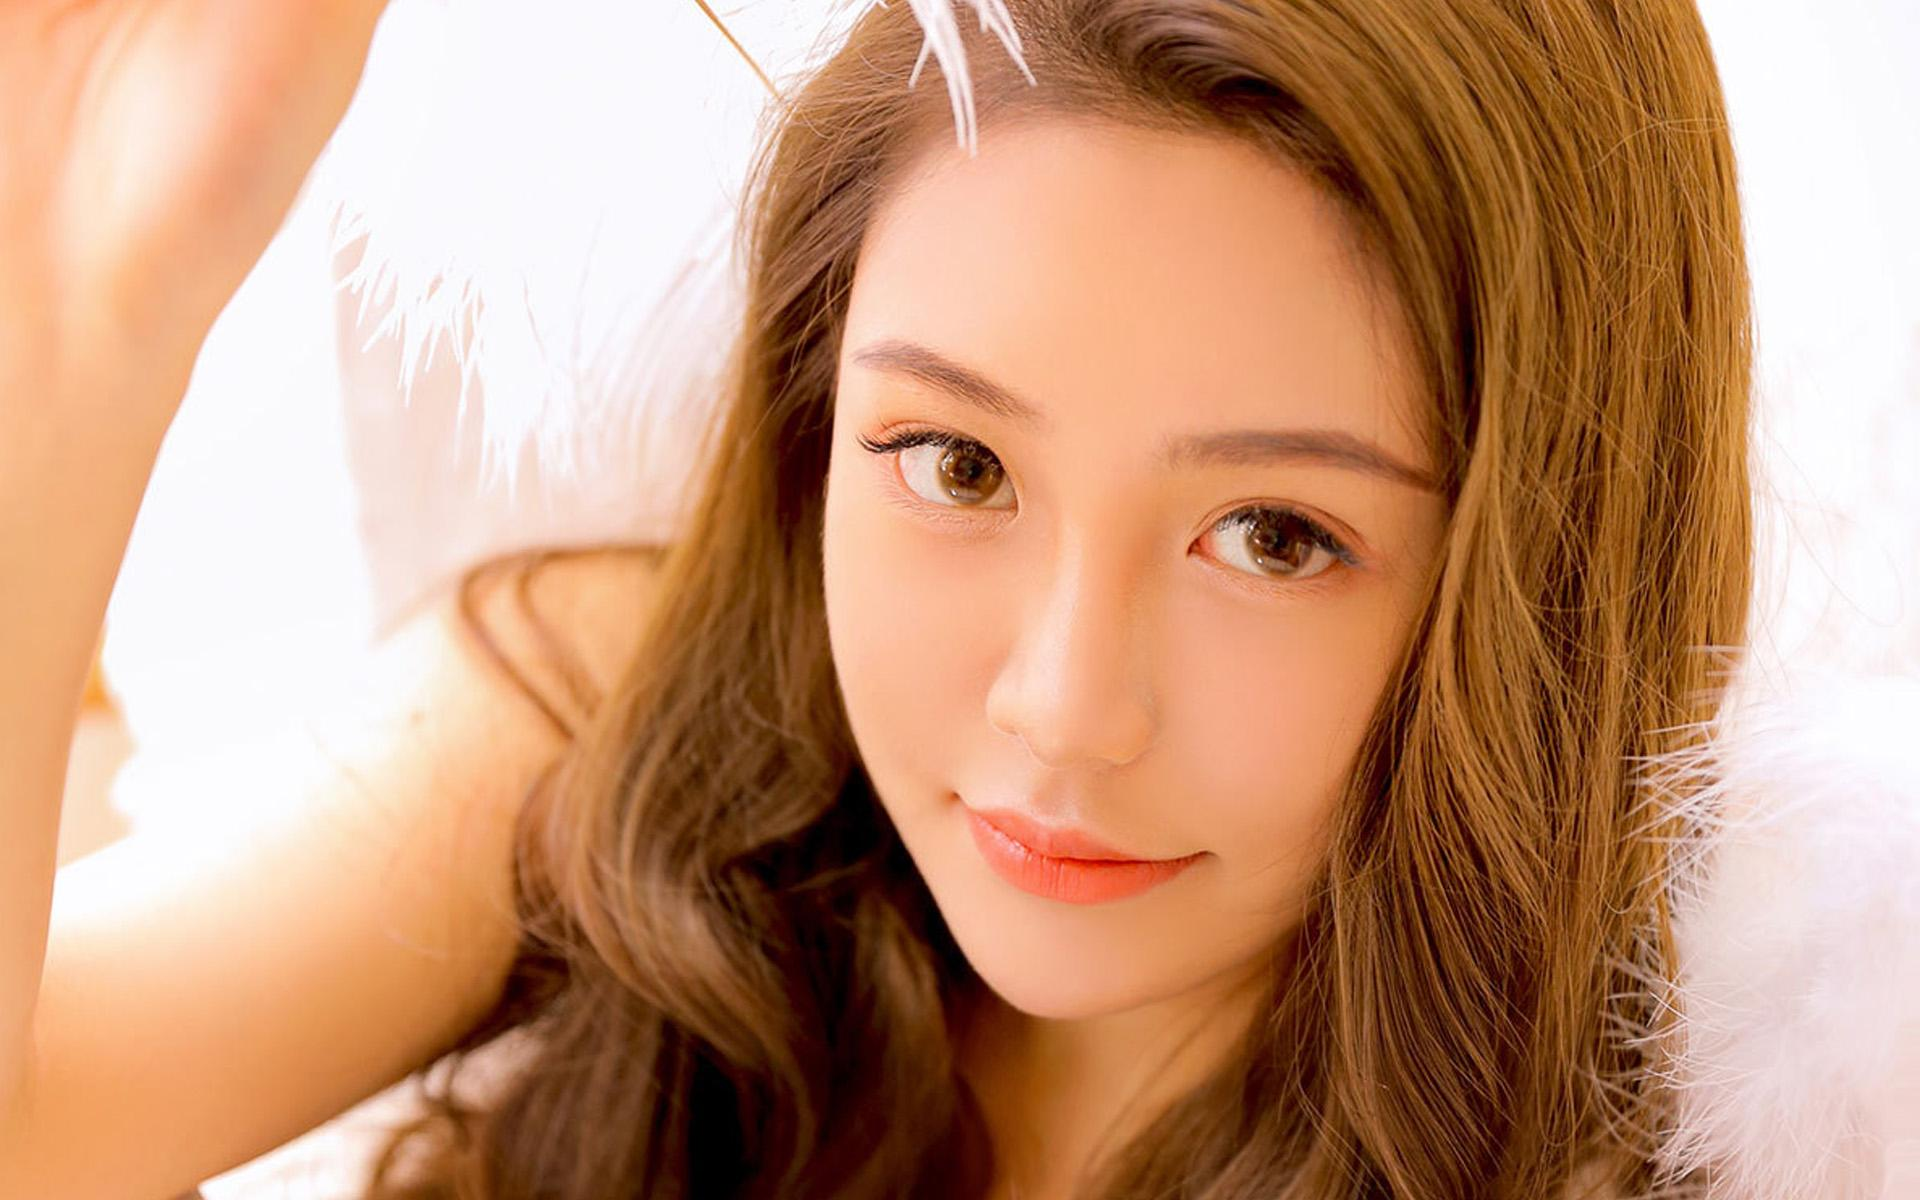person: (488, 48, 1834, 1200)
